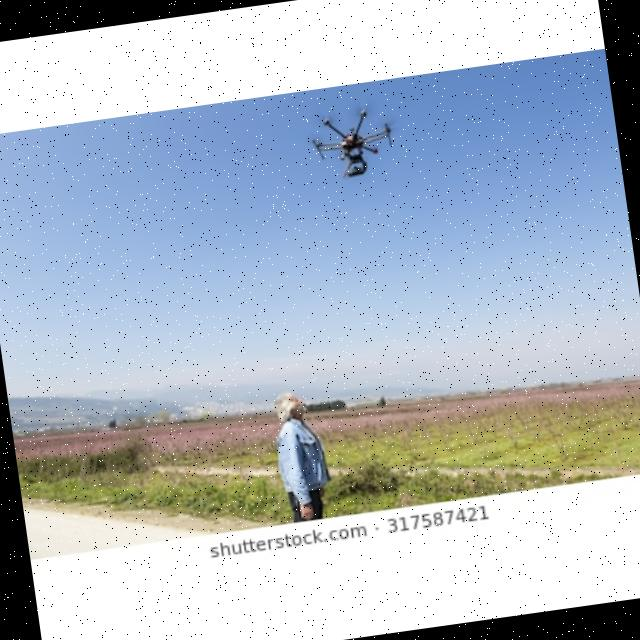Drones: (308, 96, 401, 187)
